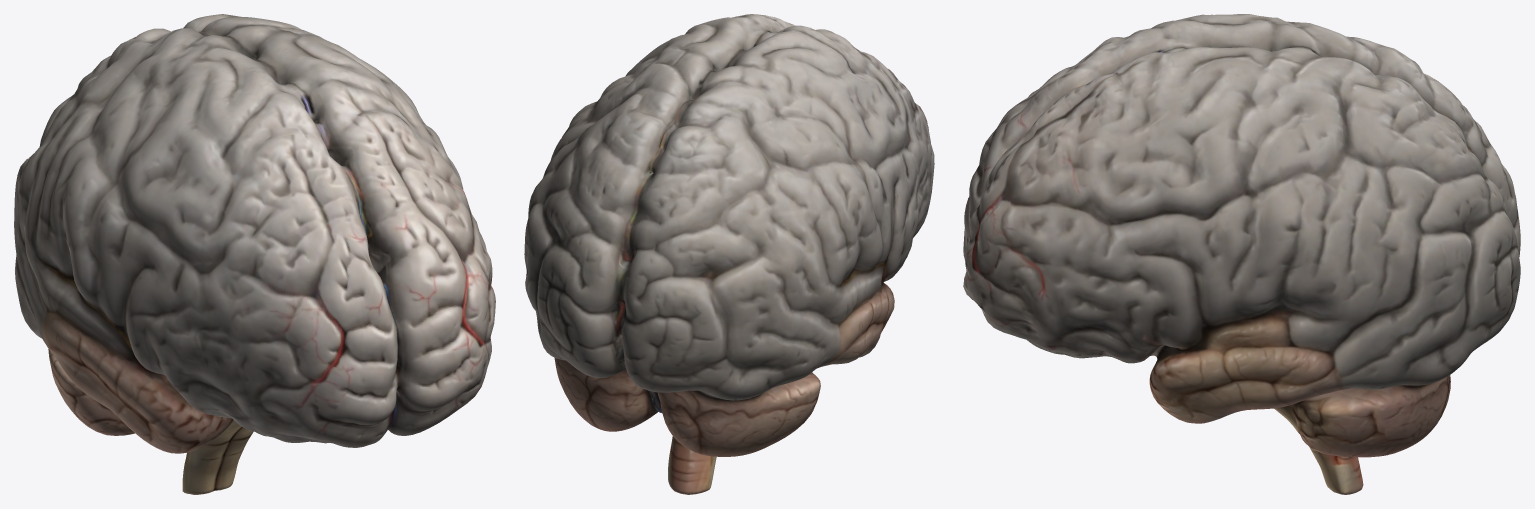
3 views of the same model, side by side, from view 1: azimuth 30°, elevation 25°; view 2: azimuth 150°, elevation 25°; view 3: azimuth 270°, elevation 25° (orthographic). The views are drawn at different scales.
Parts seen in each view (by area): view 1: Stylized Human Brain; view 2: Stylized Human Brain; view 3: Stylized Human Brain.
Part boxes in pixels (x1,y1,x2,y2): Stylized Human Brain: (14,14,495,494); Stylized Human Brain: (524,14,934,494); Stylized Human Brain: (963,14,1520,494).
Size of the model in its own units: 0.0676 by 0.0877 by 0.0982.
Materials: 1 (1 with a texture image).
